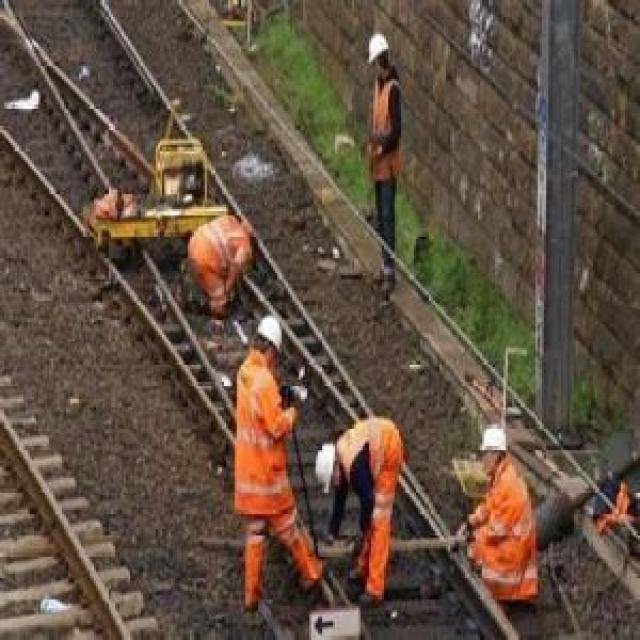danger: (233, 317, 324, 609), (449, 419, 539, 611), (318, 419, 401, 603), (366, 31, 406, 306), (180, 211, 255, 322), (122, 192, 143, 218)
